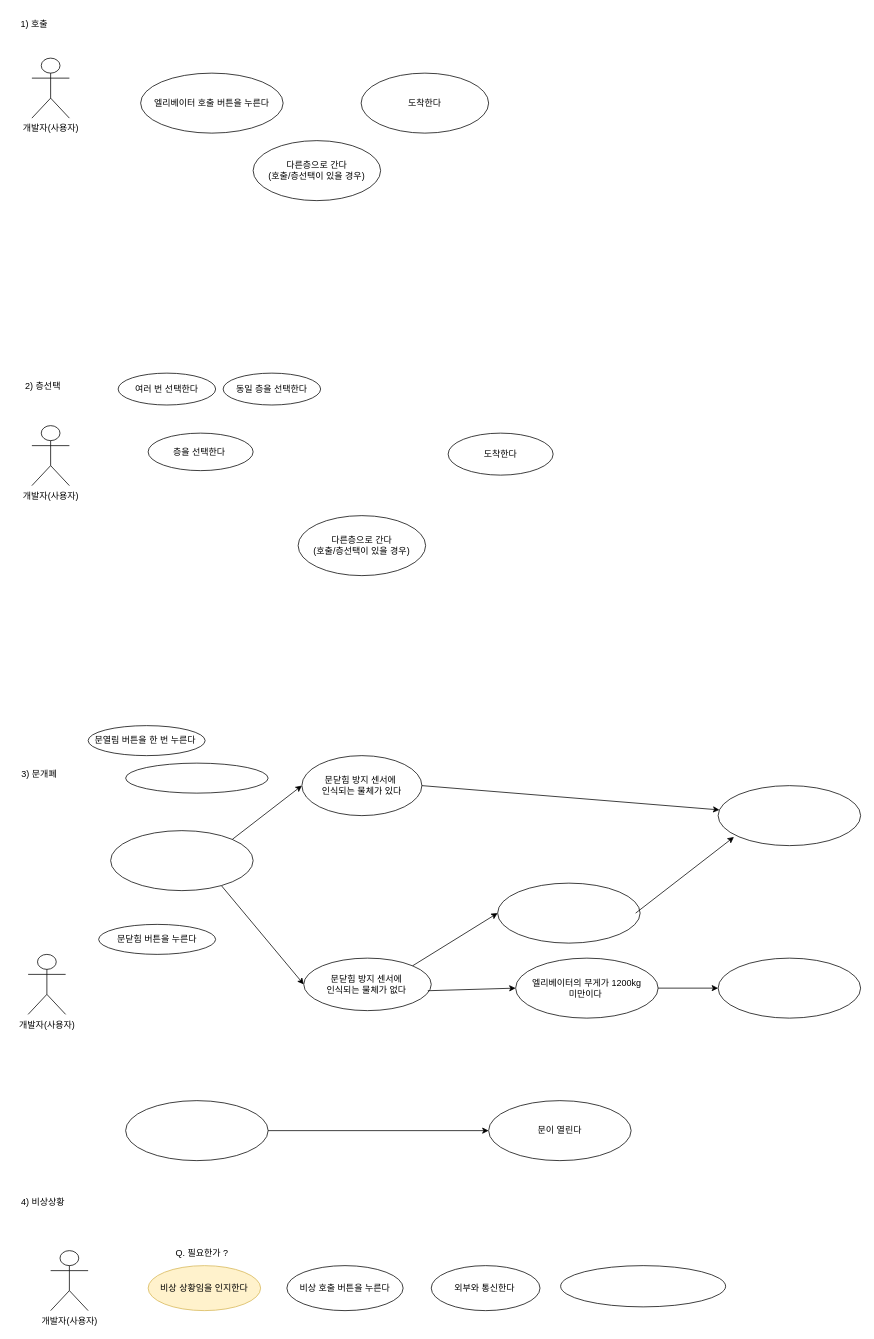
Some shapes in this 874 by 1339 pixel diagram are drawn without their labels. The shapes that lost their labels are listed below. From the top down, each one's centre as x and y in pixels, then its label:
At (x=196, y=777): "문열림 버튼을 10초 이상 누른다".
At (x=789, y=815): "문이 닫히지 않는다".
At (x=181, y=860): "문이 열린 상태다 ..?".
At (x=568, y=912): "엘리베이터의 무게가 1200kg 이상이다".
At (x=789, y=987): "문이 닫힌다".
At (x=196, y=1130): "문이 닫힌 상태다..?".
At (x=643, y=1286): "외부와 통신이 끊긴다( 강제 종료된다)".
